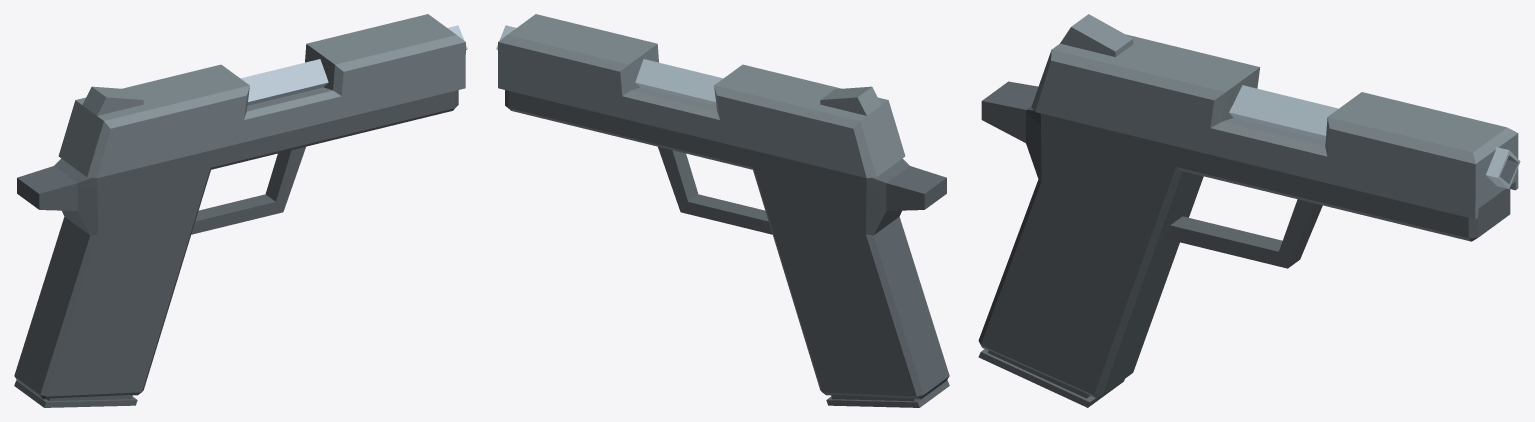
The model's file is pistol-coonan.glb.
3 renders of one model, left to right at view 1: azimuth 30°, elevation 25°; view 2: azimuth 150°, elevation 25°; view 3: azimuth 330°, elevation 25°, orthographic. The views are drawn at different scales.
Visible parts, largest first — view 1: body, reload, mag; view 2: body, reload, mag; view 3: body, reload, mag.
Boxes of the visible parts, box(x1,y1,x2,y2) form: body: box(14, 25, 467, 399); reload: box(58, 14, 465, 178); mag: box(14, 380, 137, 407); body: box(496, 25, 949, 399); reload: box(498, 14, 905, 178); mag: box(826, 380, 949, 407); body: box(978, 81, 1520, 397); reload: box(1031, 14, 1518, 219); mag: box(978, 349, 1124, 407).
Size of the model in its own units: 0.2418 by 0.165 by 0.0346.
